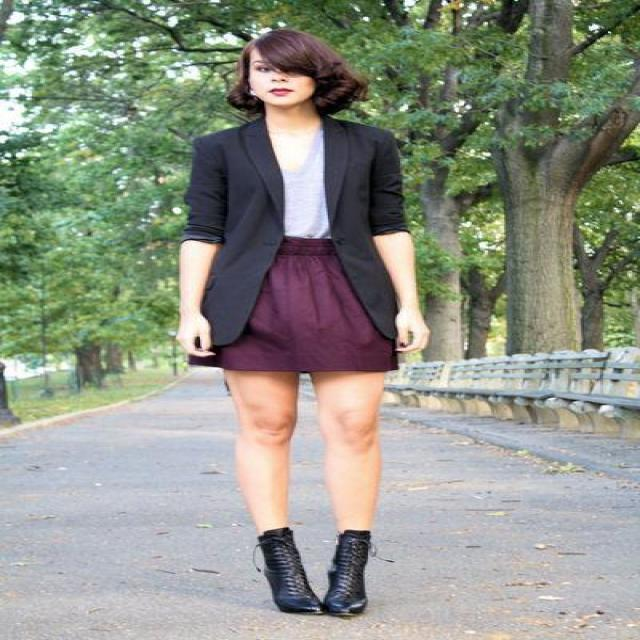jacket: (173, 110, 408, 367)
shirt: (269, 127, 328, 238)
shoe: (256, 527, 370, 619)
skirt: (224, 230, 413, 388)
